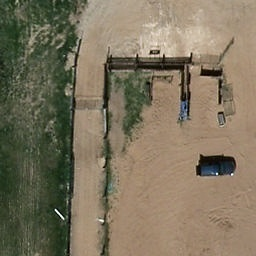car: (199, 165, 237, 176)
